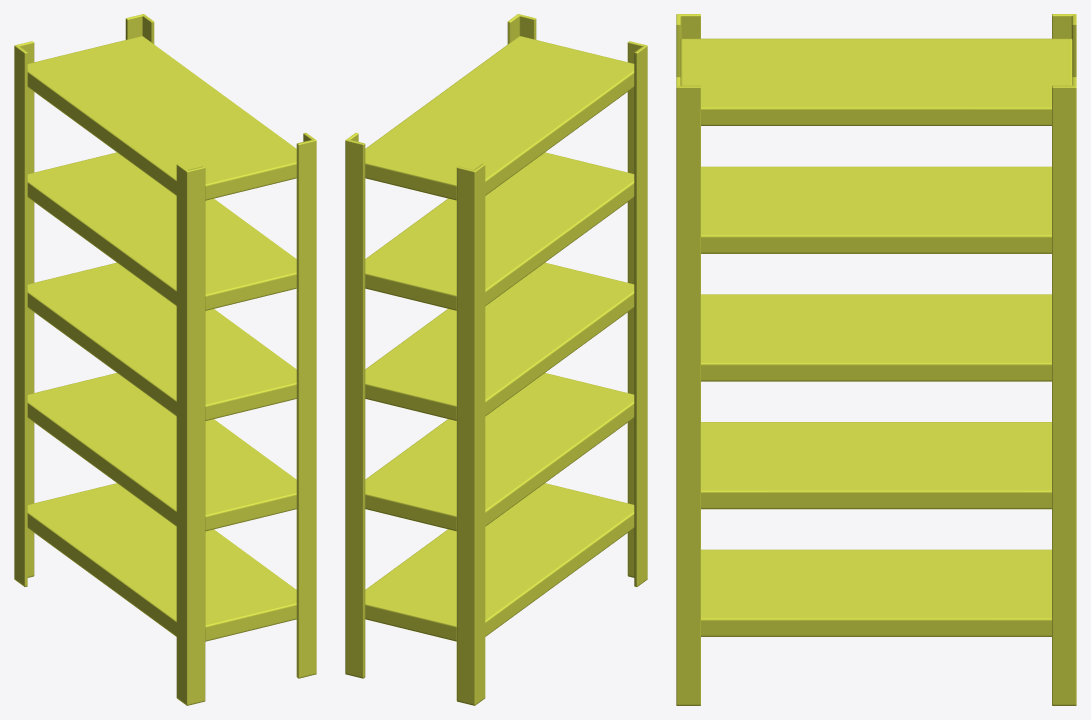
Rendered from Shelves01.fbx.
3 renders of one model, left to right at view 1: azimuth 30°, elevation 25°; view 2: azimuth 150°, elevation 25°; view 3: azimuth 270°, elevation 25°, orthographic. The views are drawn at different scales.
Visible parts, largest first — view 1: SM_Shelves01; view 2: SM_Shelves01; view 3: SM_Shelves01.
Boxes of the visible parts, x1=… form: SM_Shelves01: x1=14, y1=14, x2=316, y2=705; SM_Shelves01: x1=345, y1=14, x2=647, y2=705; SM_Shelves01: x1=676, y1=14, x2=1076, y2=705.
Bounding box in the file's own units: 0.4269 × 1.68 × 0.9833.
